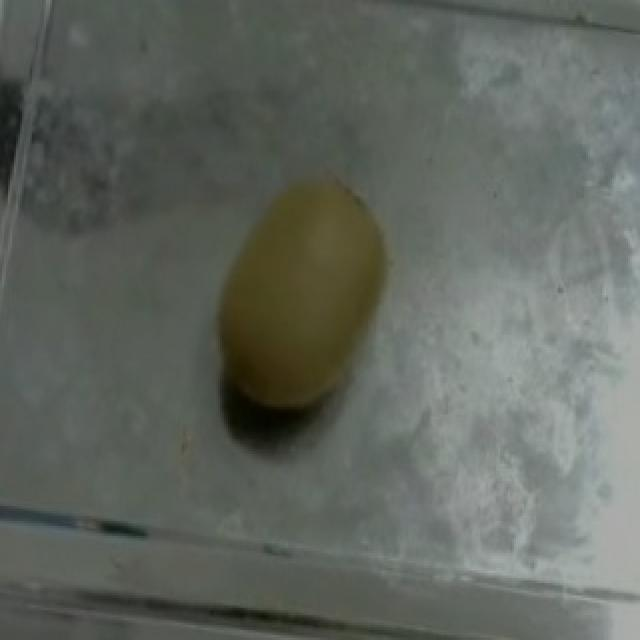Fruit: (186, 162, 412, 452)
